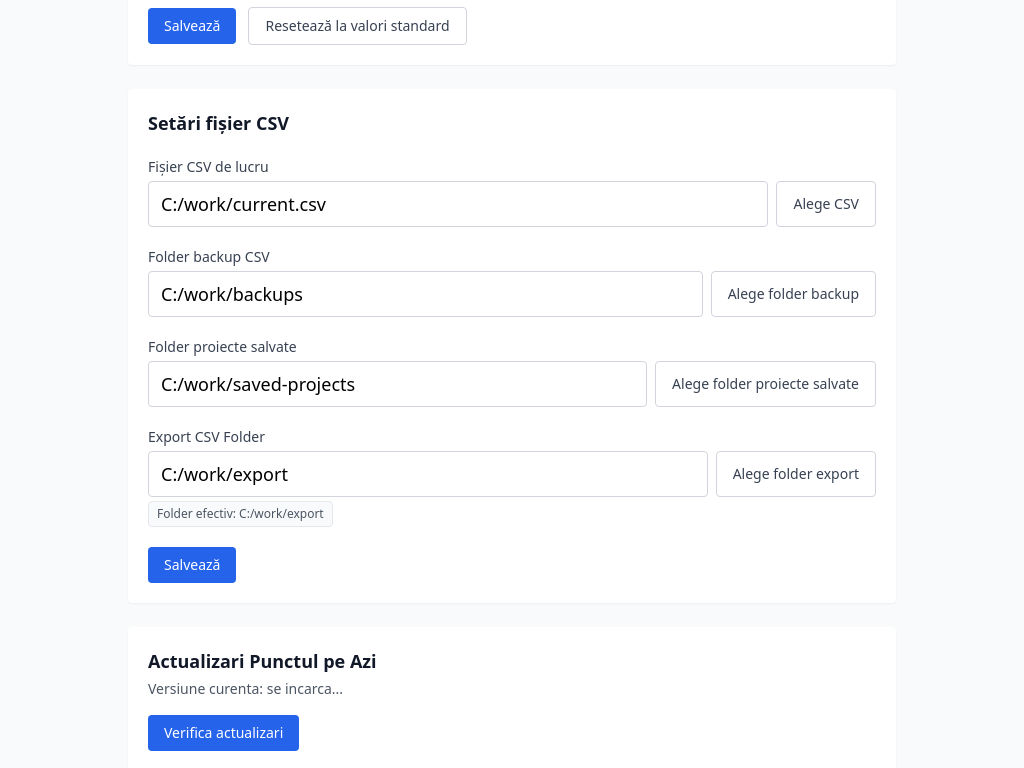
Test case: DefaultProjectSettingsPage › selects saved projects folder through the CSV file settings service
(page scrolled)
Click the button "Alege folder proiecte salvate". click: (766, 384)
box: [655,361,876,407]
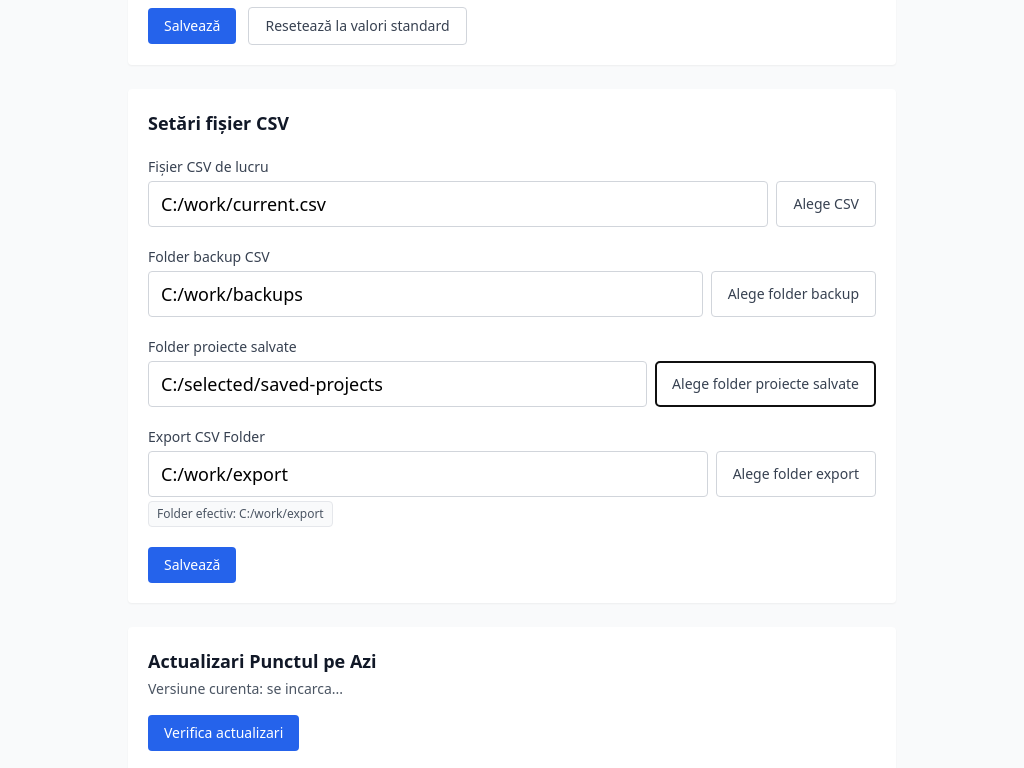
Now the field labelled "Folder proiecte salvate" holds "C:/selected/saved-projects", box [148,361,647,407]
